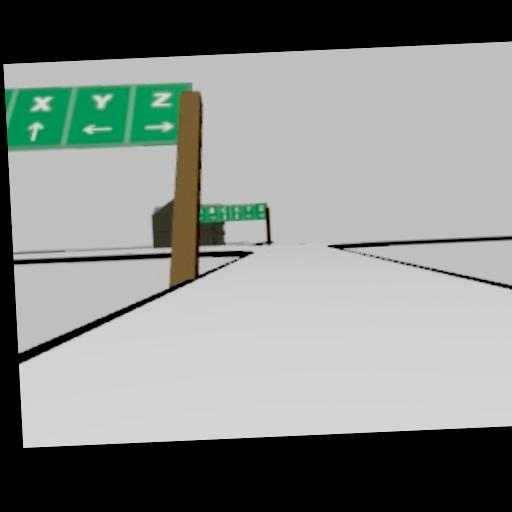Left: (80, 120, 115, 138)
Right: (140, 116, 176, 137)
Straight: (24, 119, 46, 145)
X: (29, 92, 56, 115)
Y: (90, 92, 115, 110)
Z: (148, 88, 177, 112)
